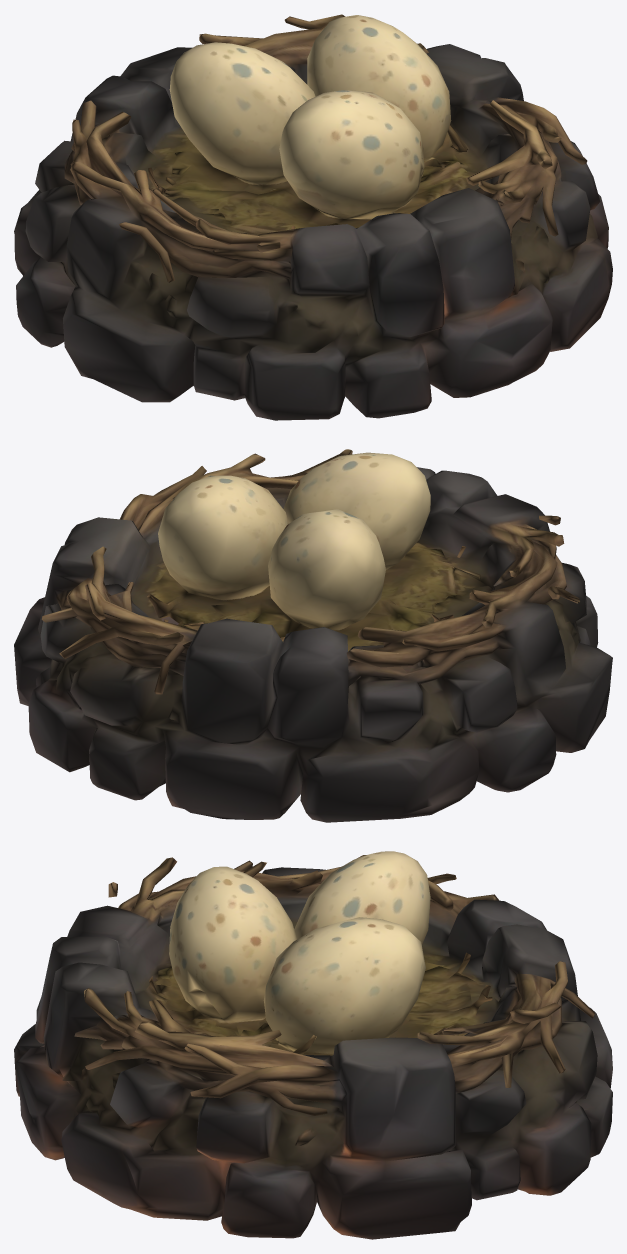
File: egg_nest.glb
The picture shows the model from 3 angles, top to bottom: view 1: azimuth 30°, elevation 25°; view 2: azimuth 150°, elevation 25°; view 3: azimuth 270°, elevation 25°; orthographic projection. The views are drawn at different scales.
Visible parts, largest first — view 1: tripo_node_98e31920-4122-47a5-a1c4-8b86890dbeb3; view 2: tripo_node_98e31920-4122-47a5-a1c4-8b86890dbeb3; view 3: tripo_node_98e31920-4122-47a5-a1c4-8b86890dbeb3.
Part boxes in pixels (x1,y1,x2,y2): tripo_node_98e31920-4122-47a5-a1c4-8b86890dbeb3: (14,14,612,420); tripo_node_98e31920-4122-47a5-a1c4-8b86890dbeb3: (14,449,612,822); tripo_node_98e31920-4122-47a5-a1c4-8b86890dbeb3: (14,851,612,1239).
Size of the model in its own units: 16 by 6.84 by 15.87.
1 material, 1 textured.
